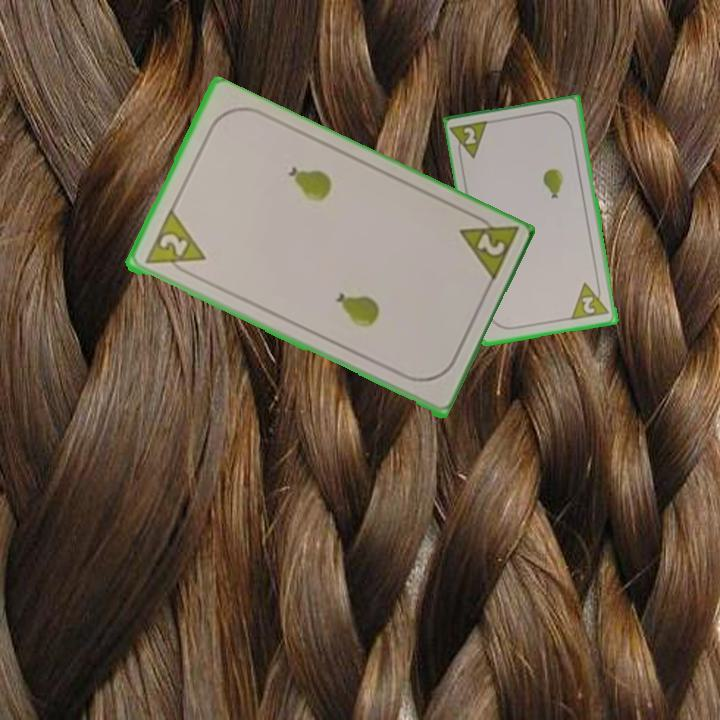2p: (454, 208, 521, 287), (140, 208, 208, 279), (568, 277, 613, 323), (449, 117, 493, 164)
